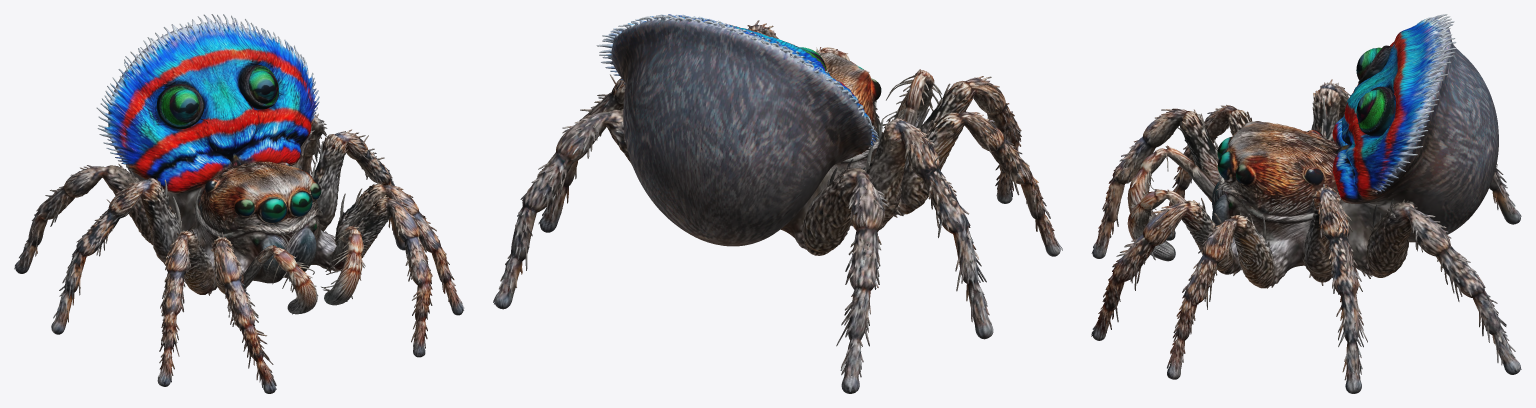
The model's file is colorful-spider-variant.glb.
3 renders of one model, left to right at view 1: azimuth 30°, elevation 25°; view 2: azimuth 150°, elevation 25°; view 3: azimuth 270°, elevation 25°, orthographic. The views are drawn at different scales.
Visible parts, largest first — view 1: tripo_node_7dd0b731-823e-4e11-8e89-7f13aa99d94f; view 2: tripo_node_7dd0b731-823e-4e11-8e89-7f13aa99d94f; view 3: tripo_node_7dd0b731-823e-4e11-8e89-7f13aa99d94f.
Boxes of the visible parts, <box> form: tripo_node_7dd0b731-823e-4e11-8e89-7f13aa99d94f: <box>14,14,464,393</box>; tripo_node_7dd0b731-823e-4e11-8e89-7f13aa99d94f: <box>493,14,1062,393</box>; tripo_node_7dd0b731-823e-4e11-8e89-7f13aa99d94f: <box>1091,14,1521,393</box>.
Bounding box in the file's own units: 0.9798 × 0.6271 × 0.9135.
Materials: 1 (1 with a texture image).
